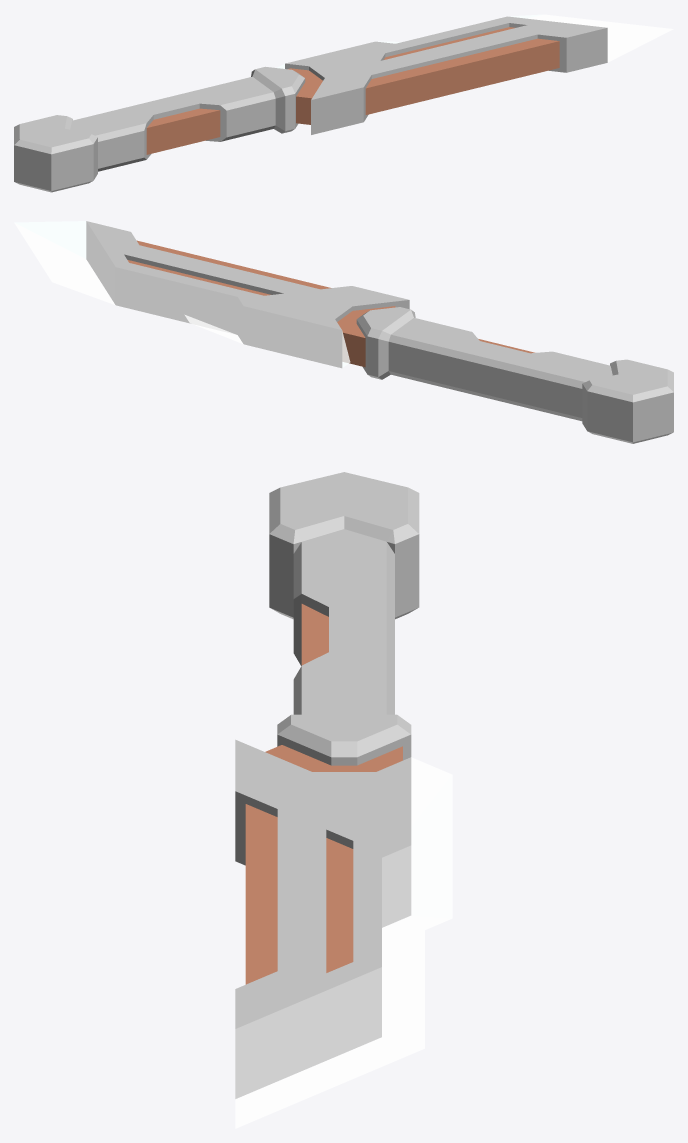
Rendered from weap3_thrown.fbx.
The picture shows the model from 3 angles, top to bottom: view 1: azimuth 30°, elevation 25°; view 2: azimuth 150°, elevation 25°; view 3: azimuth 270°, elevation 25°; orthographic projection. The views are drawn at different scales.
Visible parts, largest first — view 1: weap3_thrown; view 2: weap3_thrown; view 3: weap3_thrown.
Boxes of the visible parts, <box> form: weap3_thrown: <box>14,14,673,192</box>; weap3_thrown: <box>14,221,673,443</box>; weap3_thrown: <box>235,472,452,1128</box>.
Bounding box in the file's own units: 38.18 × 2.6 × 5.68.
